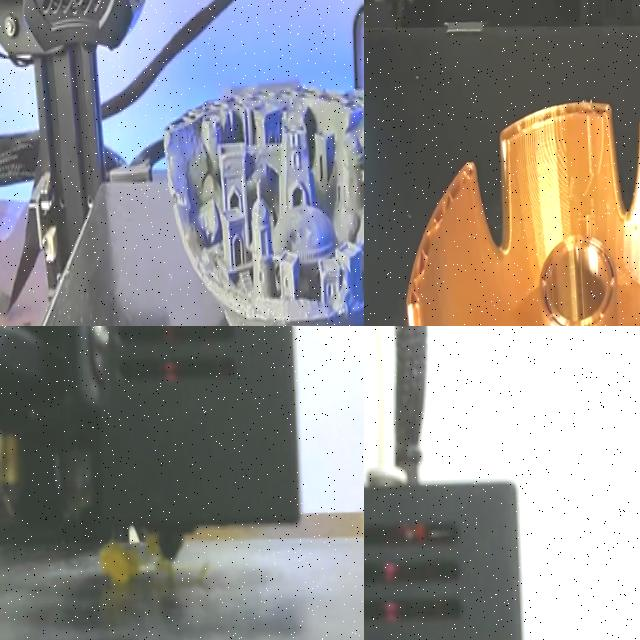spaghetti: (99, 533, 174, 586)
